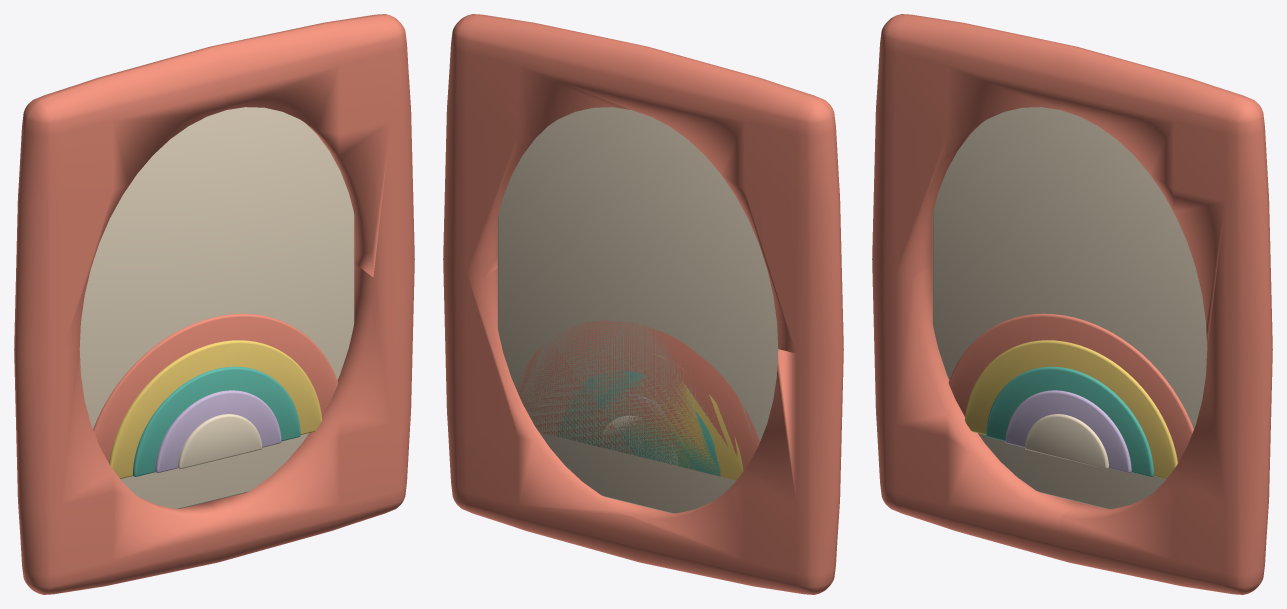
The model's file is picture_frame_b.glb.
The picture shows the model from 3 angles, left to right: view 1: azimuth 30°, elevation 25°; view 2: azimuth 150°, elevation 25°; view 3: azimuth 330°, elevation 25°; orthographic projection.
Visible parts, largest first — view 1: body; view 2: body; view 3: body.
Part boxes in pixels (left/top/right/bottom): body: left=14, top=14, right=414, bottom=594; body: left=443, top=14, right=843, bottom=594; body: left=872, top=14, right=1272, bottom=594.
Size of the model in its own units: 0.42 by 0.52 by 0.0445.
